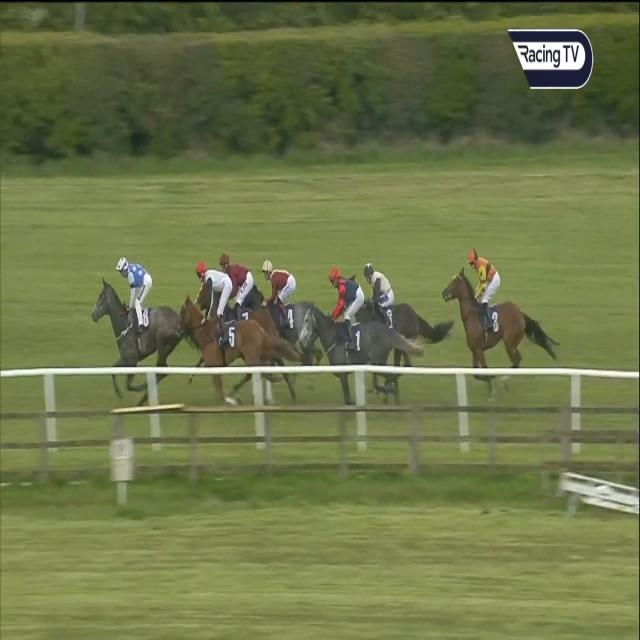horses-racing: (439, 247, 569, 398), (175, 260, 298, 412), (299, 264, 421, 404), (90, 252, 186, 407), (358, 260, 453, 348), (256, 256, 316, 345), (210, 254, 270, 324)
